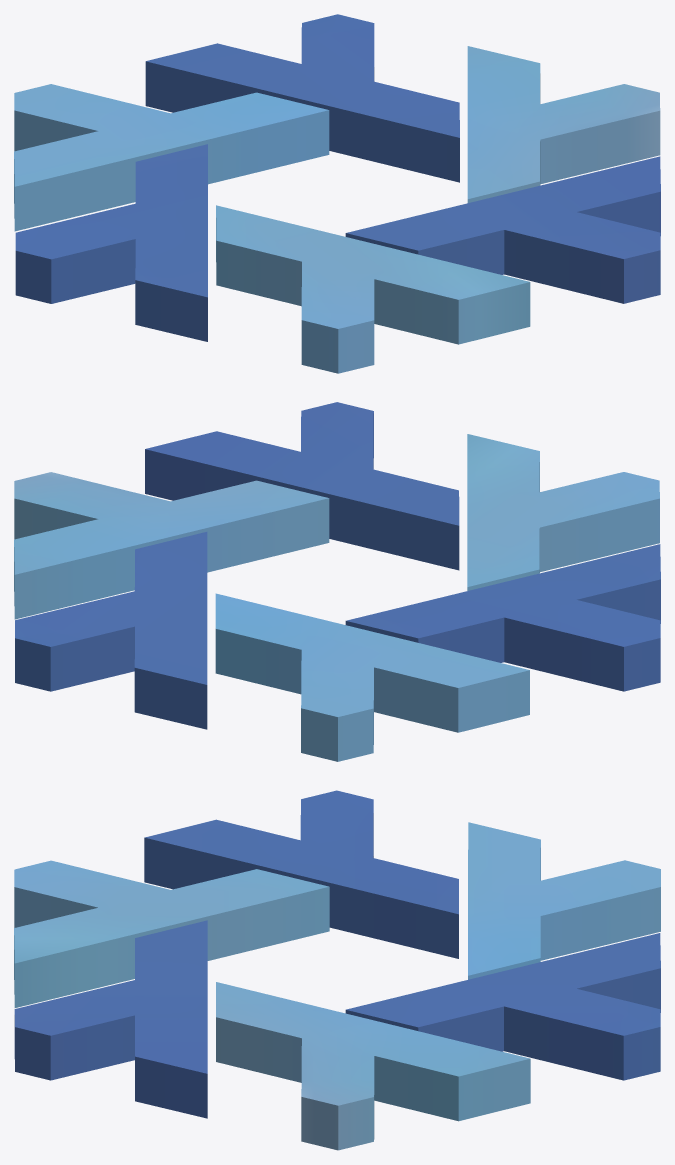
Rendered from Nix-transformed.glb.
The picture shows the model from 3 angles, top to bottom: view 1: azimuth 30°, elevation 25°; view 2: azimuth 150°, elevation 25°; view 3: azimuth 270°, elevation 25°; orthographic projection.
Parts seen in each view (by area): view 1: nixos; view 2: nixos; view 3: nixos.
Boxes of the visible parts, bbox=[...] form: nixos: bbox=[14, 14, 660, 373]; nixos: bbox=[14, 402, 660, 761]; nixos: bbox=[14, 790, 660, 1150].
Bounding box in the file's own units: 0.151 × 0.01 × 0.131.
Materials: 1 (1 with a texture image).
